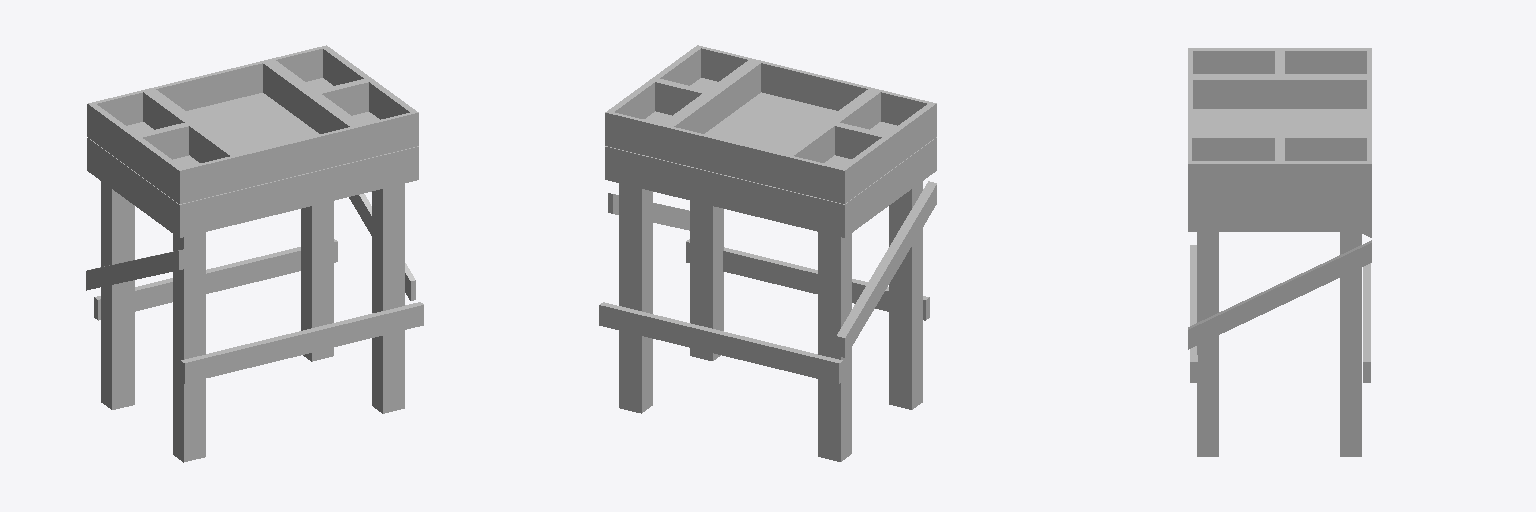
File: Lavadero.obj
3 views of the same model, side by side, from view 1: azimuth 30°, elevation 25°; view 2: azimuth 150°, elevation 25°; view 3: azimuth 270°, elevation 25° (orthographic).
Visible parts, largest first — view 1: Cube.012; view 2: Cube.012; view 3: Cube.012.
Boxes of the visible parts, box(x1,y1,x2,y2) form: Cube.012: box(86, 45, 423, 462); Cube.012: box(599, 45, 936, 461); Cube.012: box(1188, 48, 1371, 456).
Bounding box in the file's own units: 3.09 × 3.56 × 2.